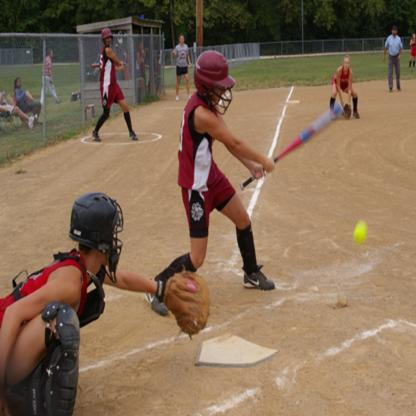Helmet: (66, 194, 125, 288), (194, 48, 238, 104), (102, 25, 113, 42)
